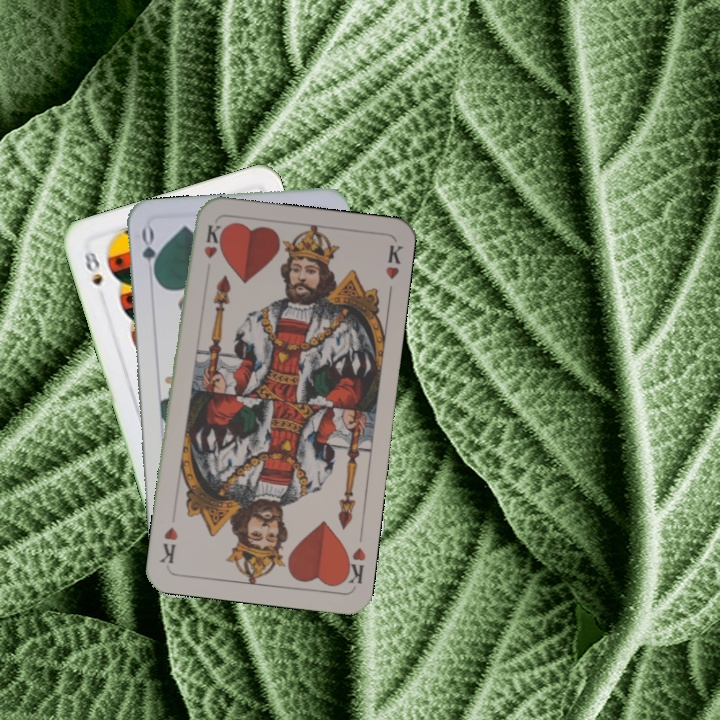GO: (137, 224, 160, 283)
HK: (338, 543, 369, 589), (200, 221, 221, 261)
S8: (80, 248, 105, 288)
